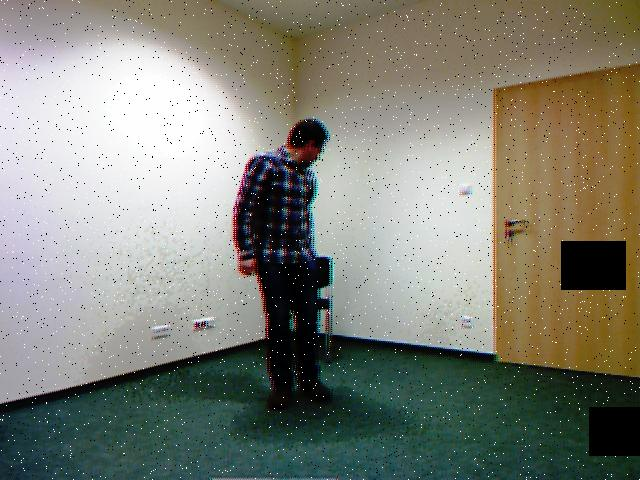walking: (227, 110, 358, 414)
